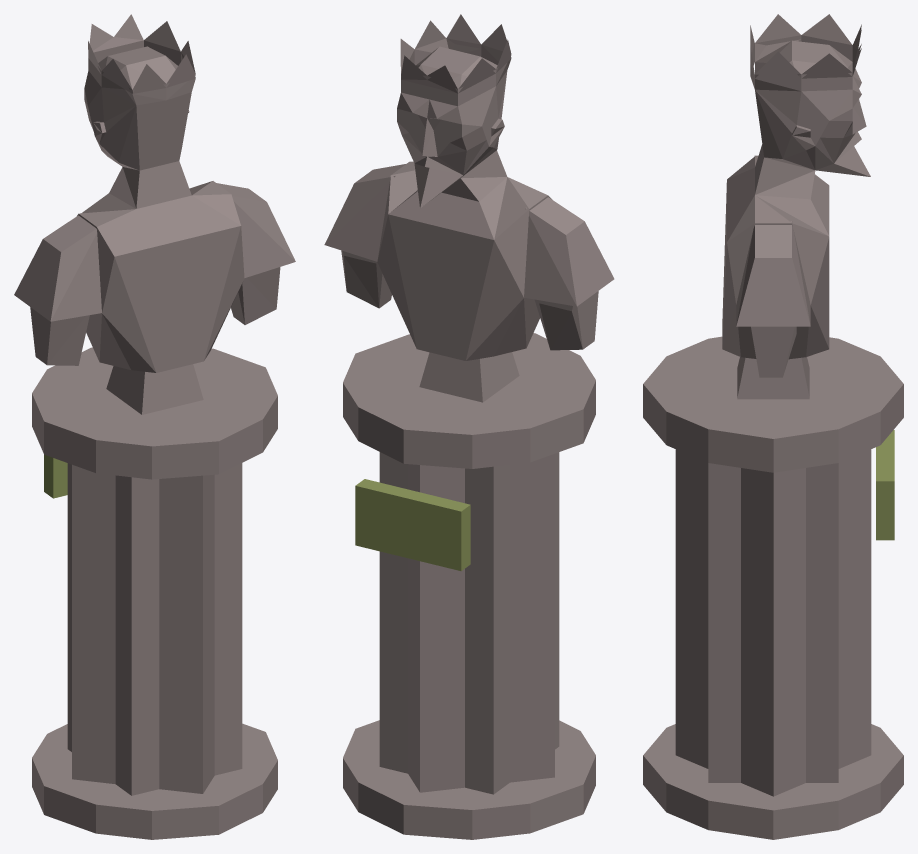
The model's file is obj_statue_3_0.obj.
The picture shows the model from 3 angles, left to right: view 1: azimuth 30°, elevation 25°; view 2: azimuth 150°, elevation 25°; view 3: azimuth 270°, elevation 25°; orthographic projection. The views are drawn at different scales.
Bounding box in the file's own units: 0.4844 × 1.39 × 0.4375.
